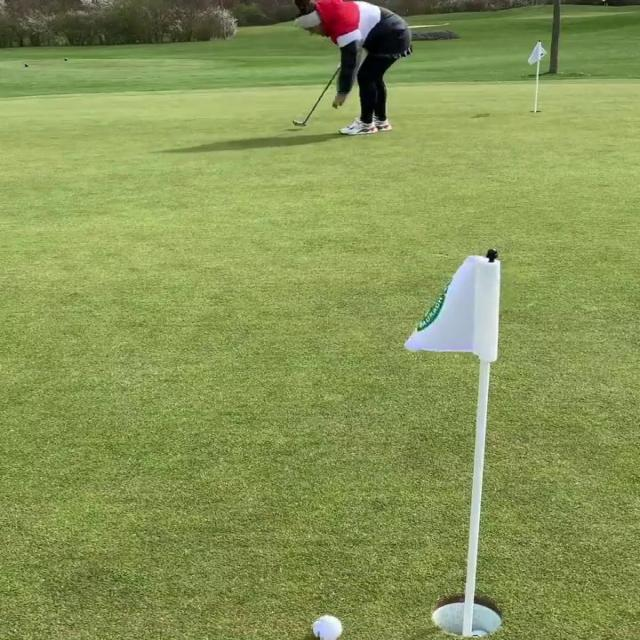ClubHead: (292, 120, 306, 126)
GolfBall: (311, 613, 344, 640), (472, 628, 487, 638)
